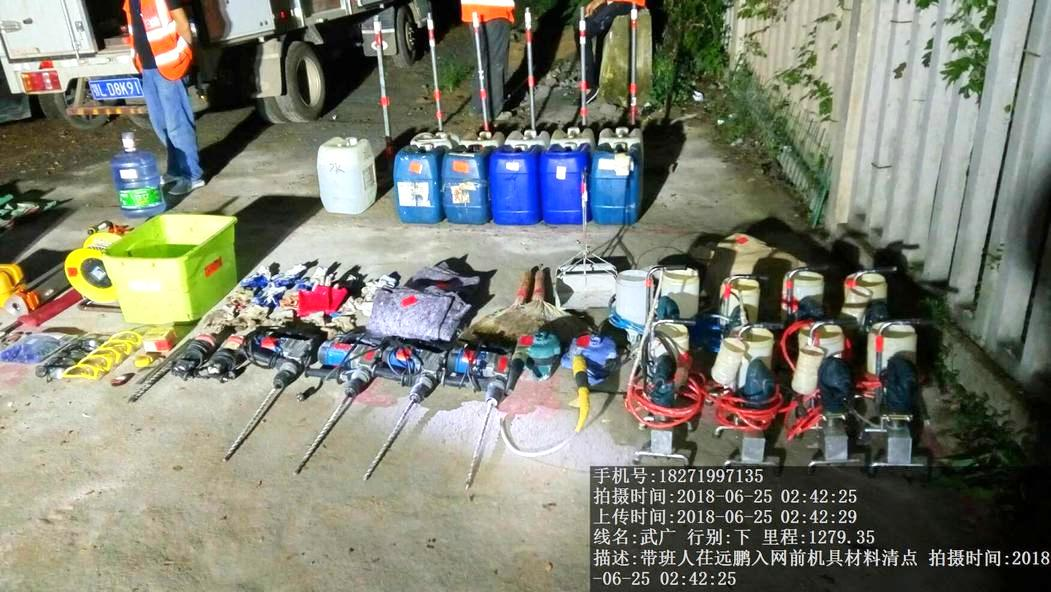DZ: (435, 341, 502, 479), (313, 333, 378, 443), (250, 329, 304, 442), (382, 333, 430, 453)
SB: (493, 262, 571, 340)
SLT: (386, 145, 439, 222), (490, 149, 542, 224), (444, 143, 488, 224), (543, 144, 585, 225)
T: (102, 204, 230, 322)
